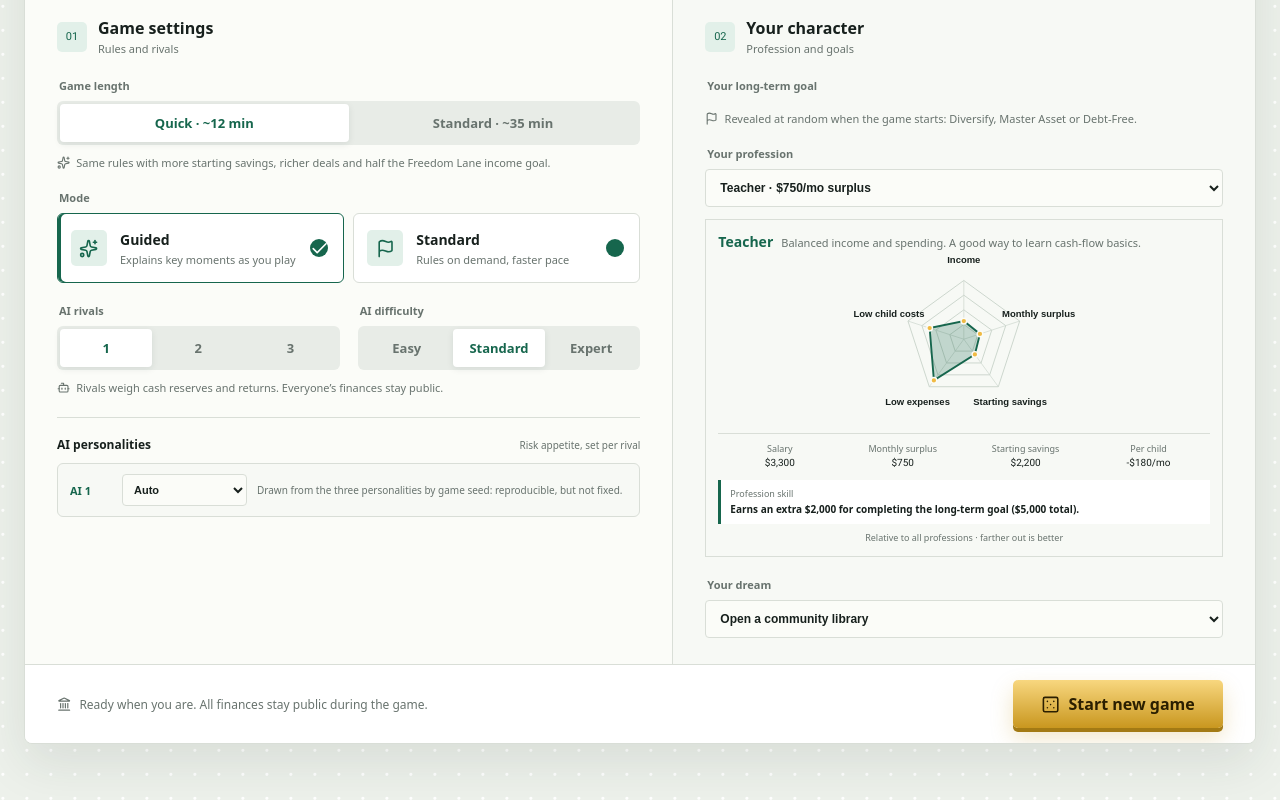
portal integration › confirms save deletion inside the game instead of a browser dialog
(page scrolled)
Click the button "Start new game" at coordinates (1118, 704), box [1013,680,1223,728]
(page scrolled)
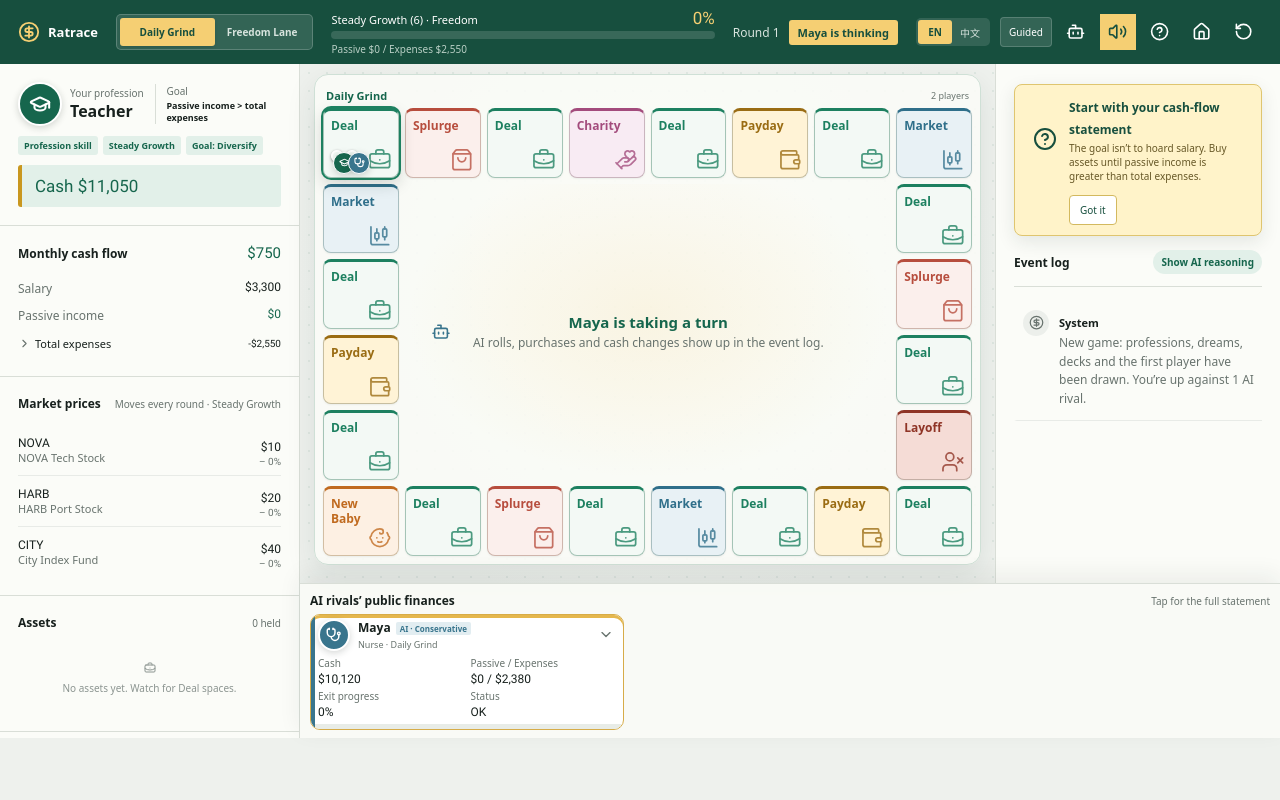
Click the button titled "Delete save and restart" at coordinates (1244, 32), box [1226,14,1262,50]
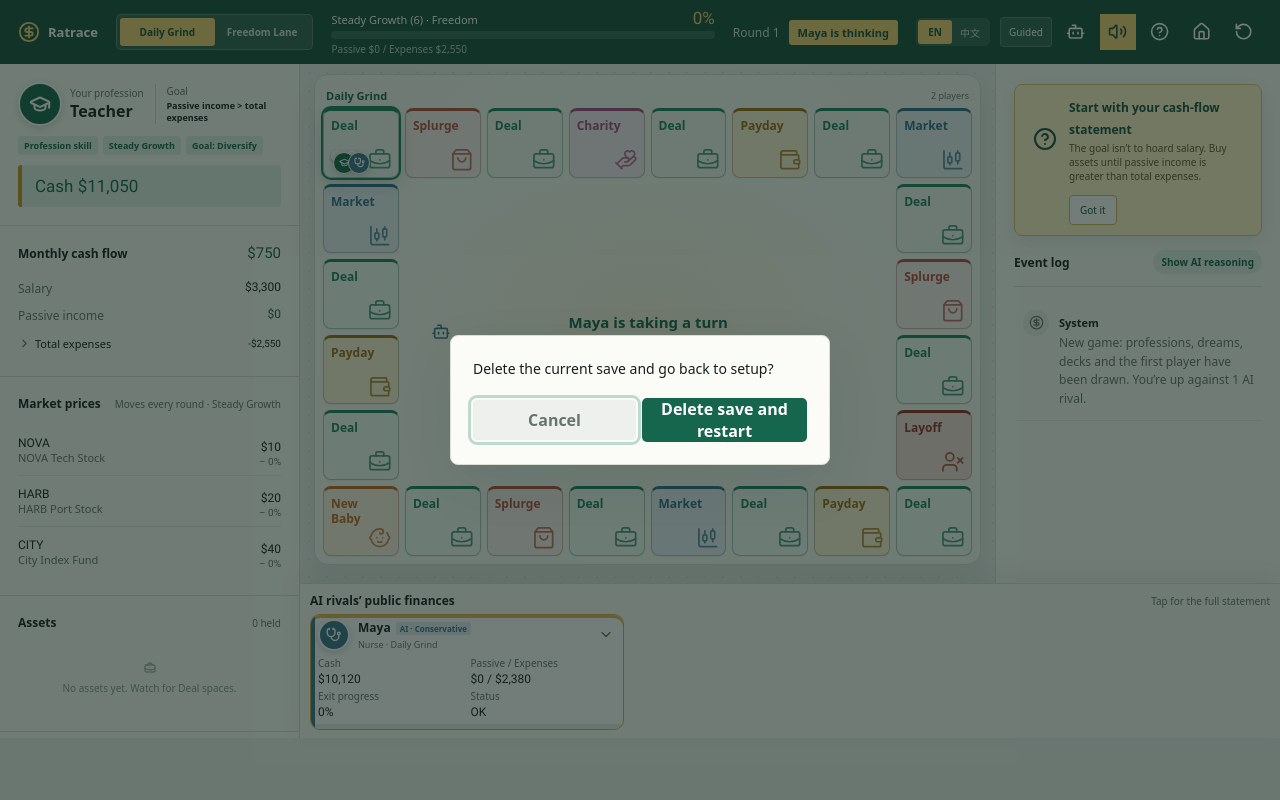
Click the button "Cancel" at coordinates (554, 420), box [473,400,636,440]
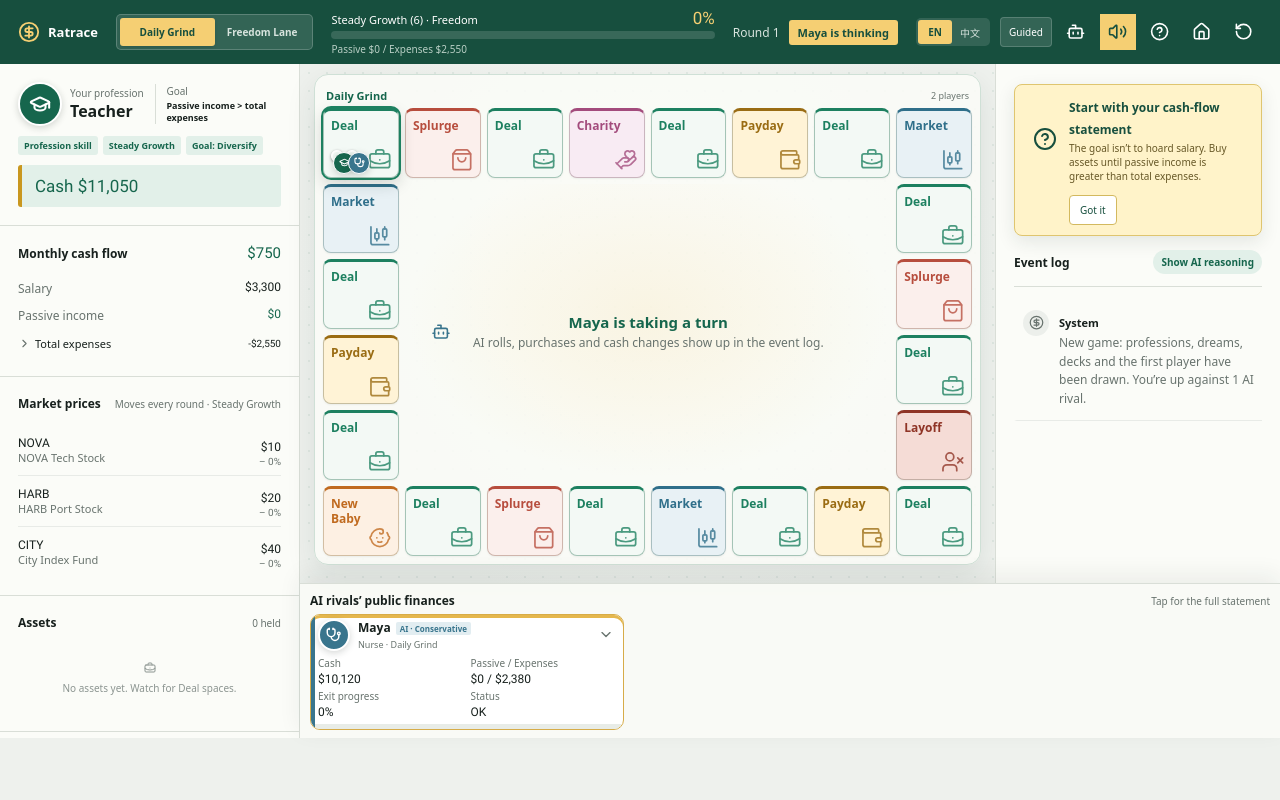
Now the text "Event log" is shown, box [1014,254,1070,270]
Click the button titled "Delete save and restart" at coordinates (1244, 32), box [1226,14,1262,50]
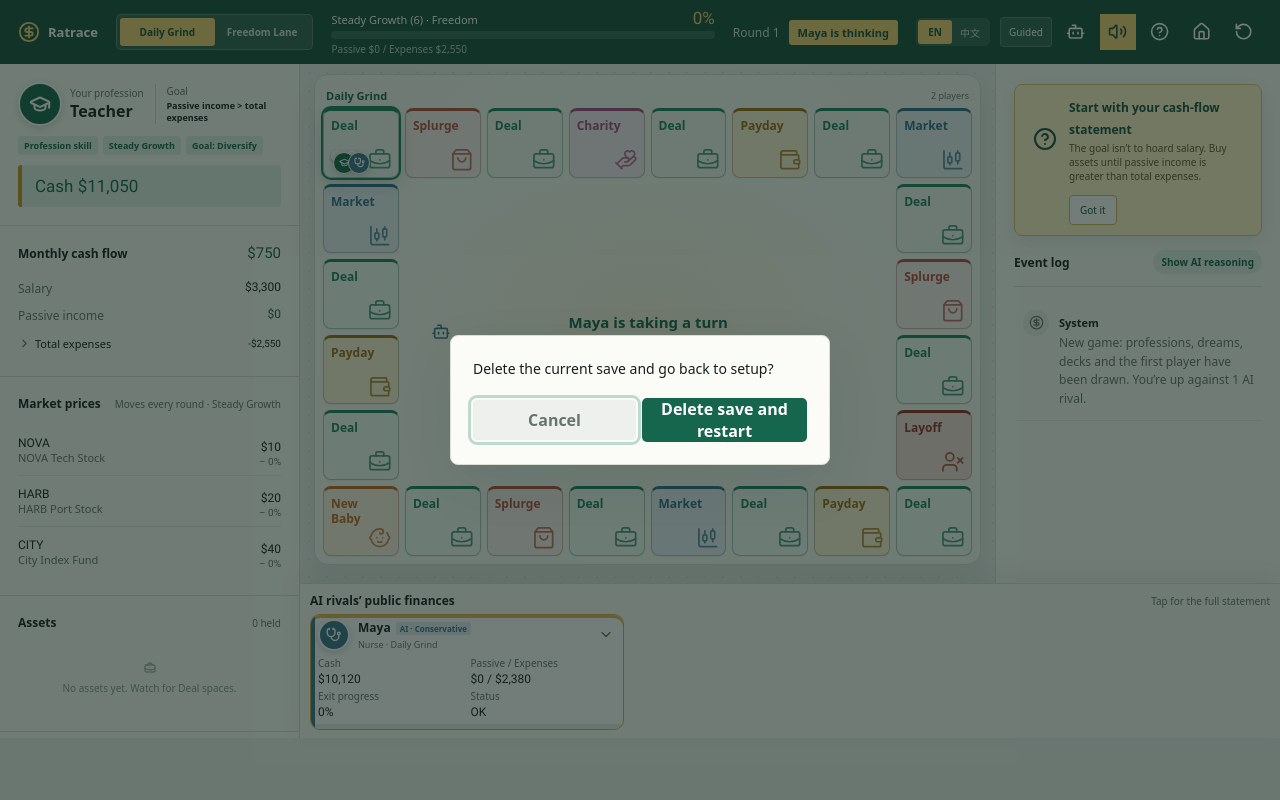
Click the button "Delete save and restart" at coordinates (724, 420), box [642,398,807,442]
(page scrolled)
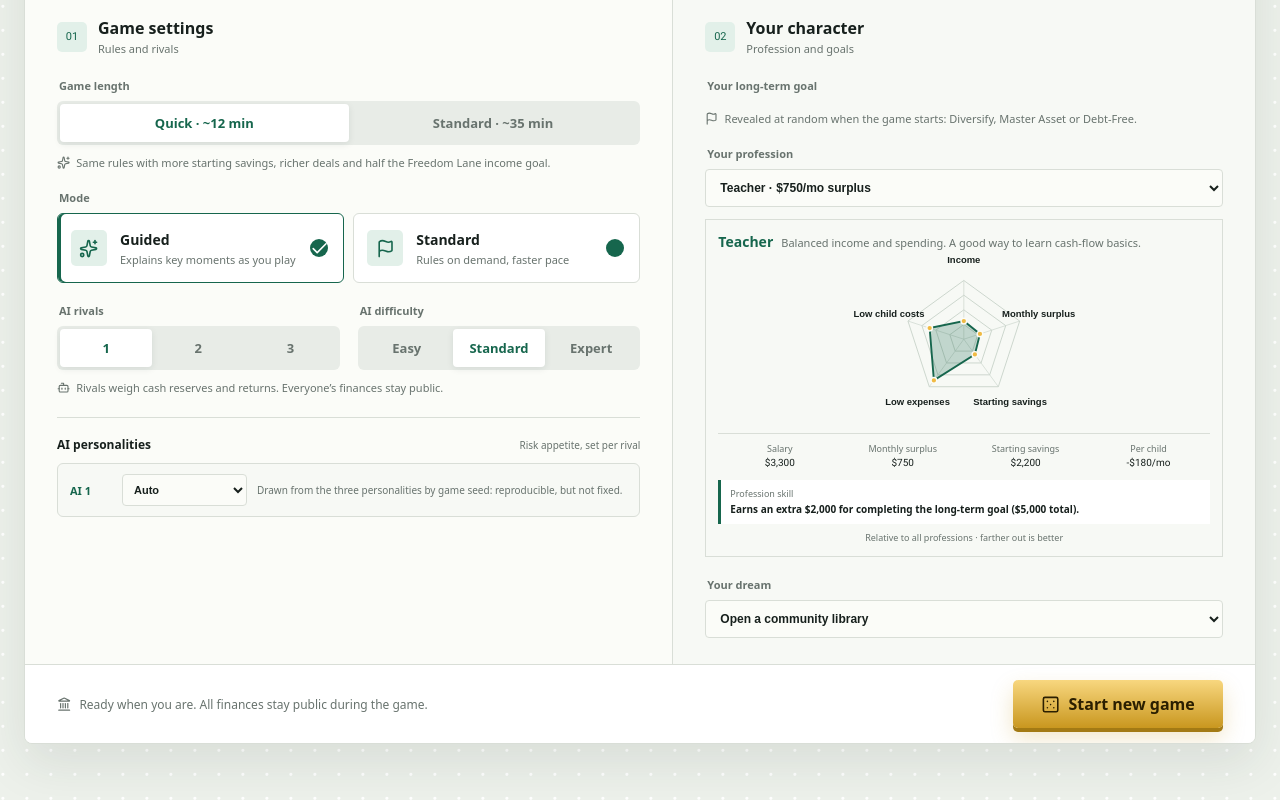
Now the button "Start new game" is shown, box [1013,680,1223,728]
